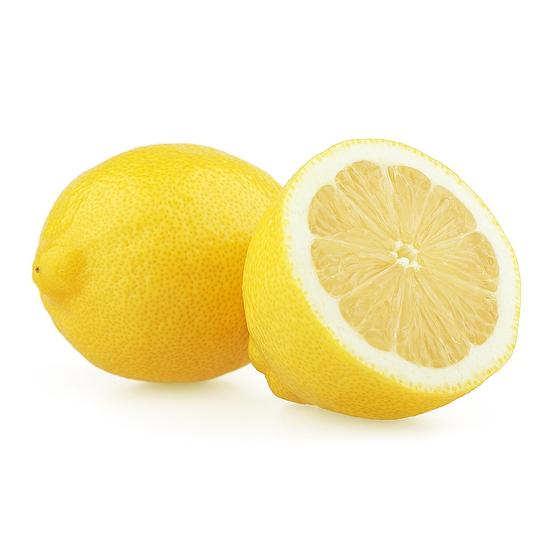lemon: (26, 137, 277, 382)
